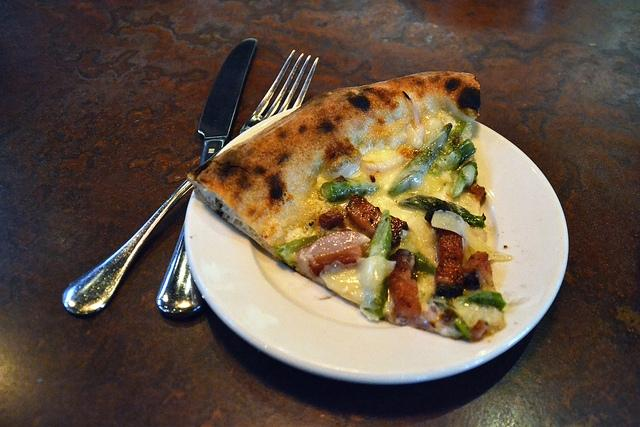bell pepper: (388, 122, 453, 198), (359, 209, 392, 322), (273, 228, 354, 269), (398, 195, 487, 228), (426, 139, 476, 175), (320, 180, 378, 202), (460, 290, 508, 312), (452, 161, 478, 198), (412, 252, 437, 276), (454, 318, 472, 340)
